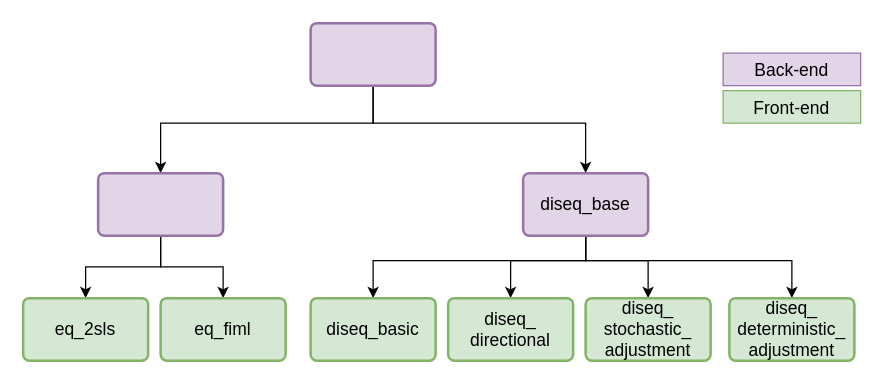
The diagram is 883 pixels wide and 383 high, and some of its shapes have lost their labels. Each missing label, with the box of its shape:
eq_base: (96, 171, 224, 236)
model_base: (309, 21, 436, 86)
